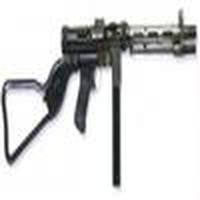gun: (1, 19, 200, 143)
